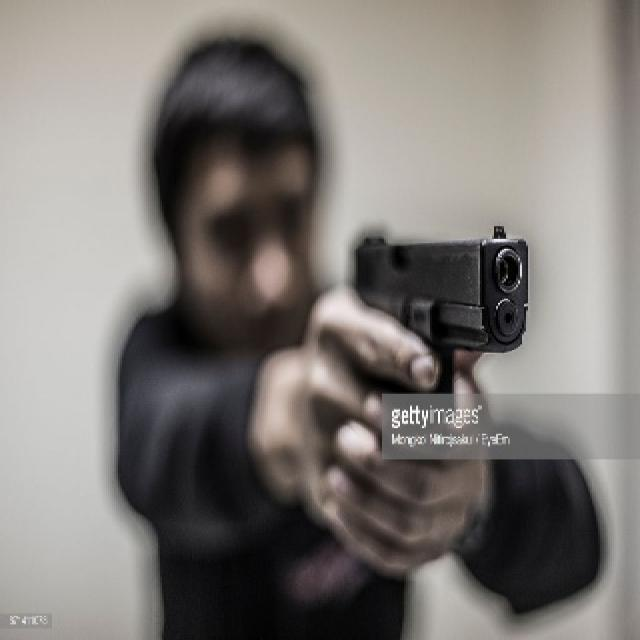weapon: (344, 224, 534, 456)
